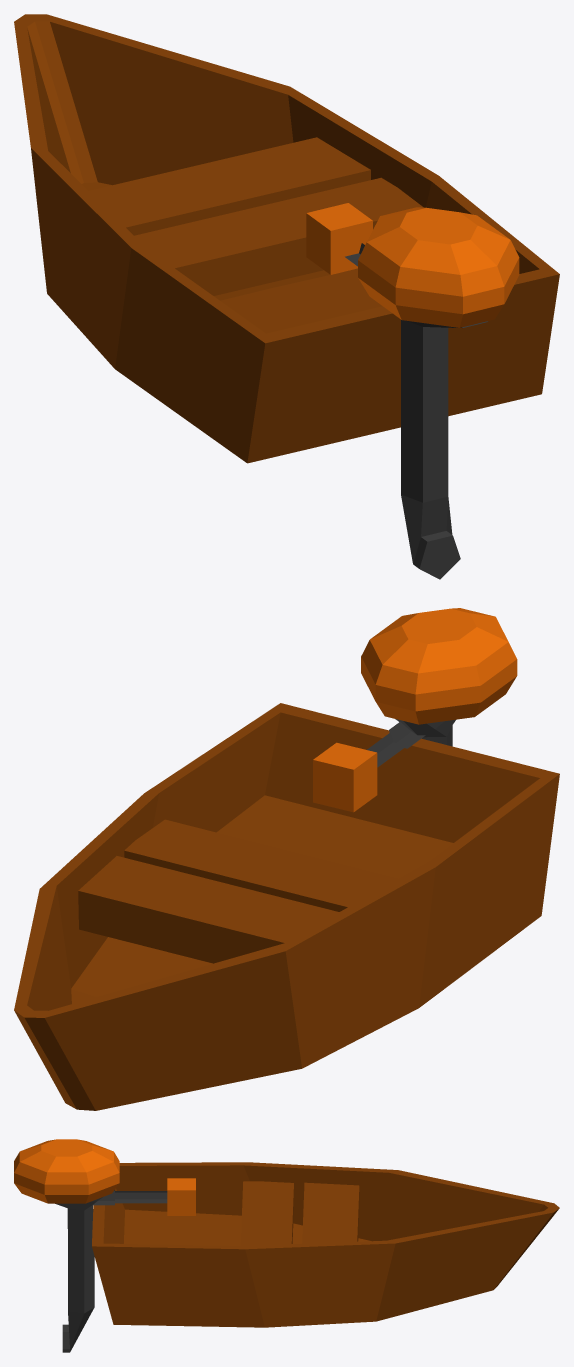
File: LowPolyBoatTextured.fbx
3 renders of one model, top to bottom at view 1: azimuth 30°, elevation 25°; view 2: azimuth 150°, elevation 25°; view 3: azimuth 270°, elevation 25°, orthographic. The views are drawn at different scales.
Parts seen in each view (by area): view 1: Plane.010; view 2: Plane.010; view 3: Plane.010.
Part boxes in pixels (x1=…): Plane.010: x1=14, y1=14, x2=559, y2=579; Plane.010: x1=14, y1=608, x2=559, y2=1110; Plane.010: x1=14, y1=1139, x2=559, y2=1352.
Bounding box in the file's own units: 128 × 141 × 340.
